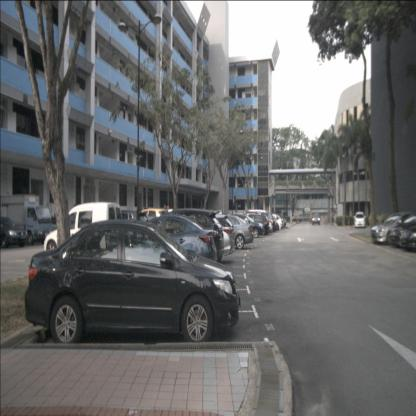human-pedestrian-adult: (331, 211, 334, 223)
vehicle-car: (25, 219, 240, 349), (124, 214, 216, 283), (155, 209, 224, 276), (44, 201, 123, 258), (178, 214, 235, 263), (205, 215, 254, 250), (371, 211, 416, 246), (134, 208, 171, 240), (113, 210, 149, 242), (388, 210, 416, 250), (0, 216, 29, 248), (230, 214, 265, 239), (243, 214, 270, 238), (396, 221, 416, 253), (252, 212, 275, 235), (263, 214, 284, 231), (354, 212, 365, 228), (292, 212, 303, 222), (312, 213, 320, 226)
vehicle-motorcycle: (283, 216, 288, 229), (281, 215, 285, 228)
vehicle-truck: (0, 194, 52, 246)
